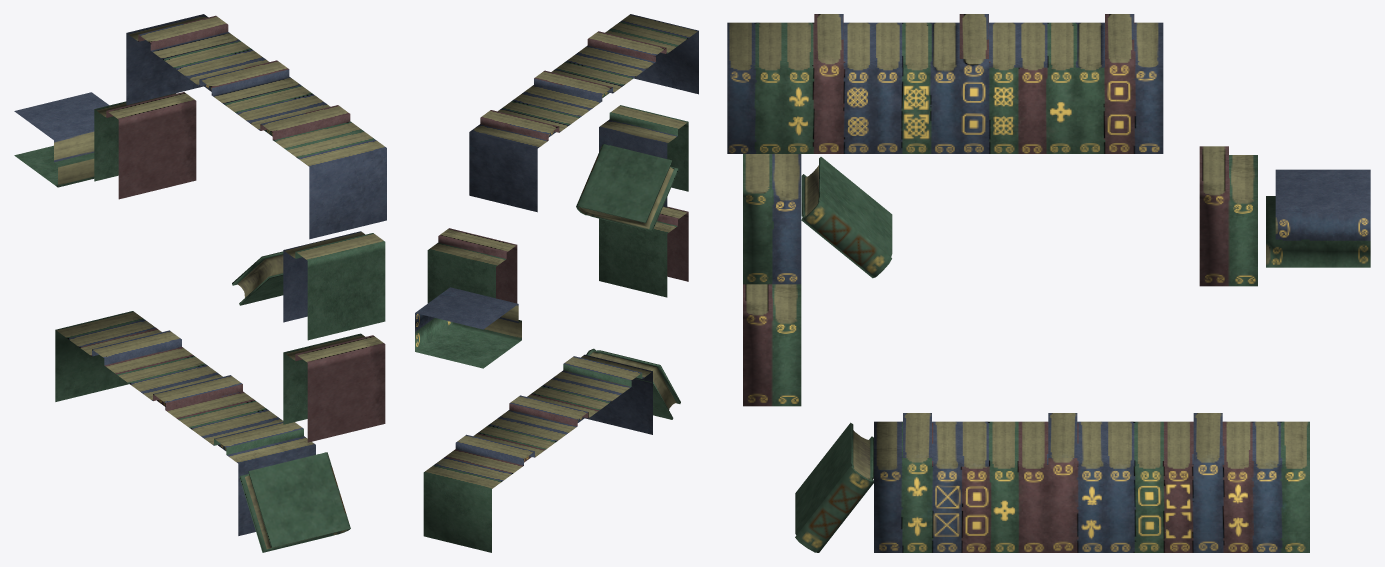
The model's file is BookCaseFillUpper_B_01.fbx.
3 renders of one model, left to right at view 1: azimuth 30°, elevation 25°; view 2: azimuth 150°, elevation 25°; view 3: azimuth 270°, elevation 25°, orthographic. The views are drawn at different scales.
Visible parts, largest first — view 1: BookCaseFillUpper_B_01; view 2: BookCaseFillUpper_B_01; view 3: BookCaseFillUpper_B_01.
Boxes of the visible parts, box(x1,y1,x2,y2) form: BookCaseFillUpper_B_01: box(14, 14, 386, 552); BookCaseFillUpper_B_01: box(415, 14, 698, 552); BookCaseFillUpper_B_01: box(727, 14, 1370, 552).
Bounding box in the file's own units: 35.45 × 128 × 150.
